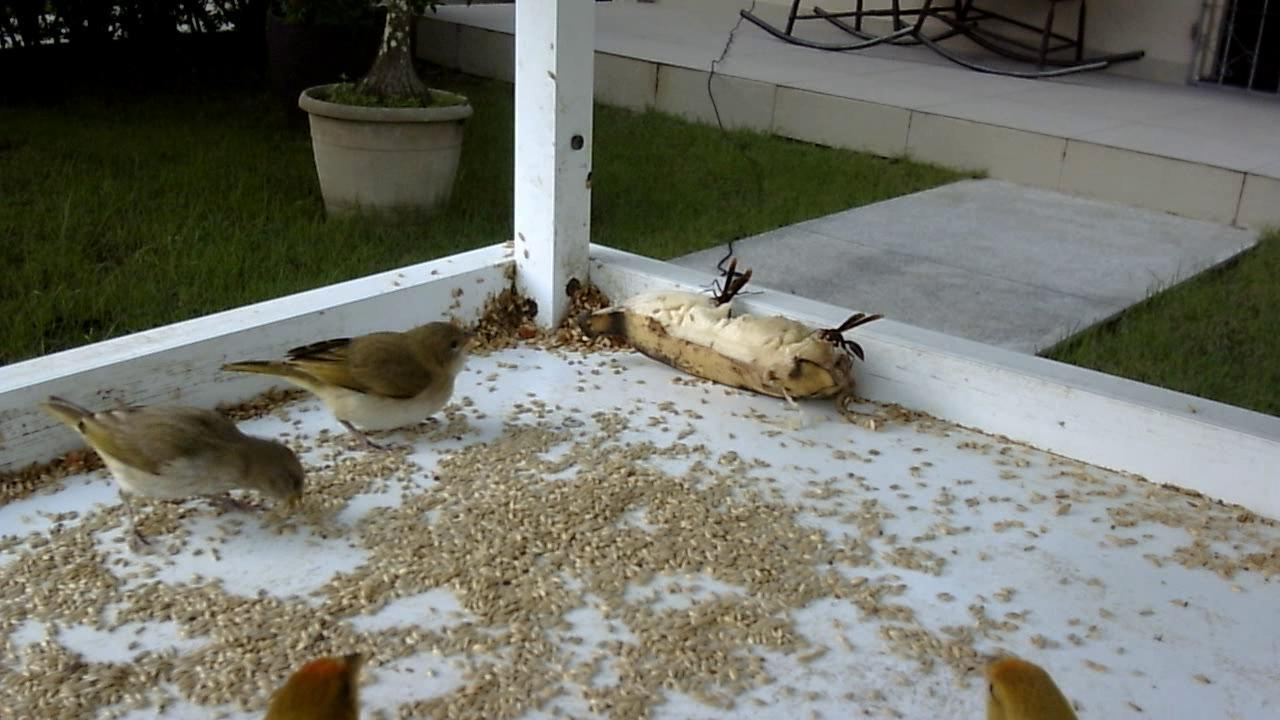canario_do_amazonas: (29, 387, 307, 551), (219, 315, 479, 455), (241, 638, 376, 720), (963, 649, 1095, 718)
